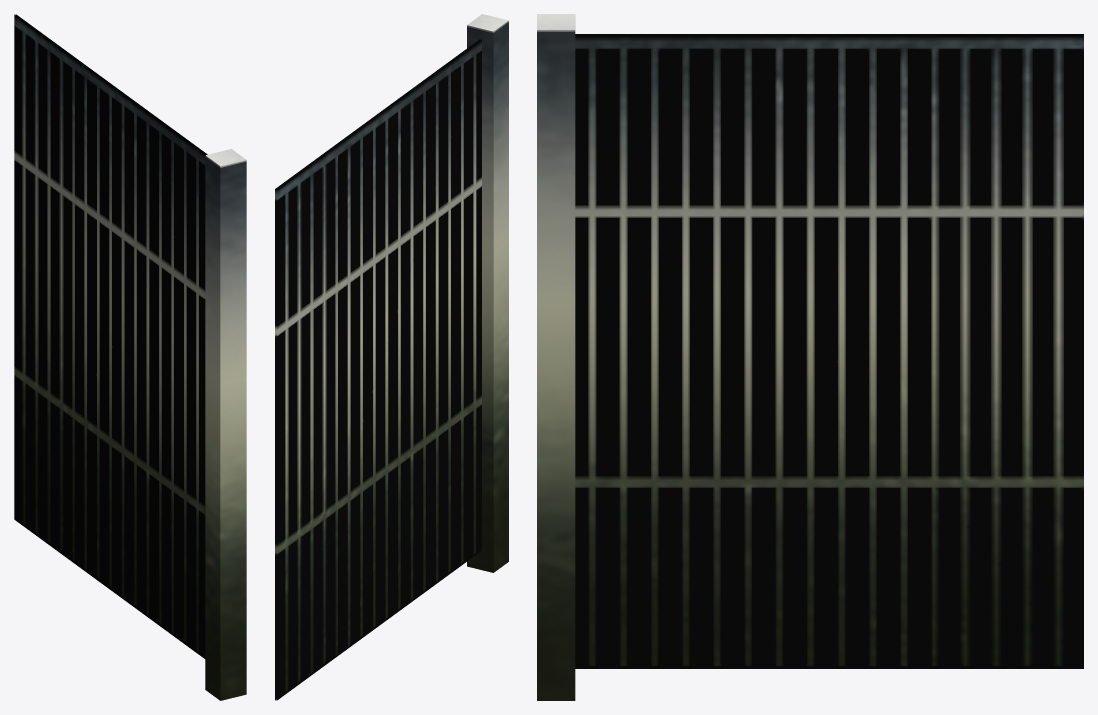
File: fence.fbx
3 renders of one model, left to right at view 1: azimuth 30°, elevation 25°; view 2: azimuth 150°, elevation 25°; view 3: azimuth 270°, elevation 25°, orthographic. The views are drawn at different scales.
Parts seen in each view (by area): view 1: Cube.002, Cube, Cube.001; view 2: Cube.002, Cube, Cube.001; view 3: Cube.001, Cube.
Part boxes in pixels (x1,y1,x2,y2): Cube.002: [14, 14, 205, 658]; Cube: [205, 149, 246, 700]; Cube.001: [15, 14, 207, 154]; Cube.002: [276, 39, 481, 700]; Cube: [467, 14, 508, 572]; Cube.001: [275, 39, 480, 700]; Cube.001: [575, 35, 1083, 668]; Cube: [537, 14, 575, 700].
Bounding box in the file's own units: 14.82 × 289 × 213.
